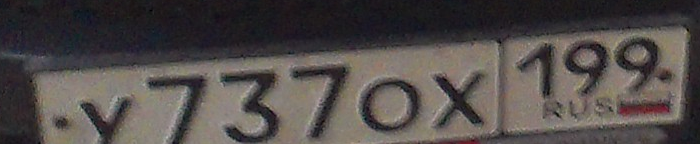character: (290, 59, 353, 144), (216, 63, 282, 144), (142, 69, 211, 144), (427, 65, 490, 135), (356, 69, 421, 136), (559, 36, 613, 101), (77, 89, 137, 144), (512, 36, 559, 104), (614, 31, 660, 97)
